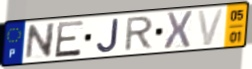E: (53, 19, 86, 59)
J: (95, 17, 121, 54)
N: (23, 21, 57, 61)
R: (122, 14, 156, 53)
V: (196, 8, 227, 48)
X: (162, 9, 194, 52)
